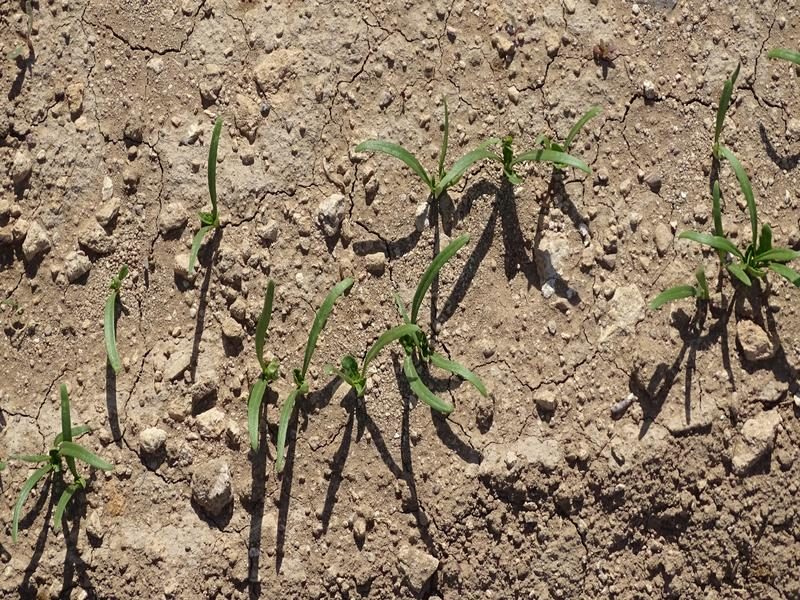Espinaca: (243, 230, 476, 461), (665, 142, 800, 296), (359, 111, 587, 199), (8, 386, 107, 532), (185, 118, 223, 272), (105, 272, 127, 363)
